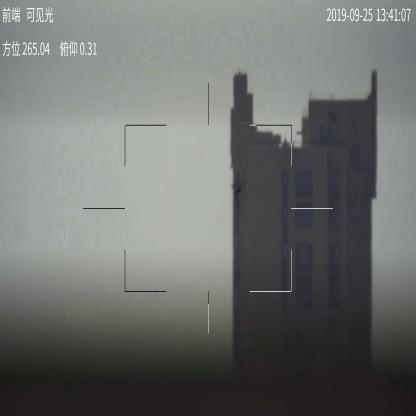uav: (229, 180, 249, 202)
